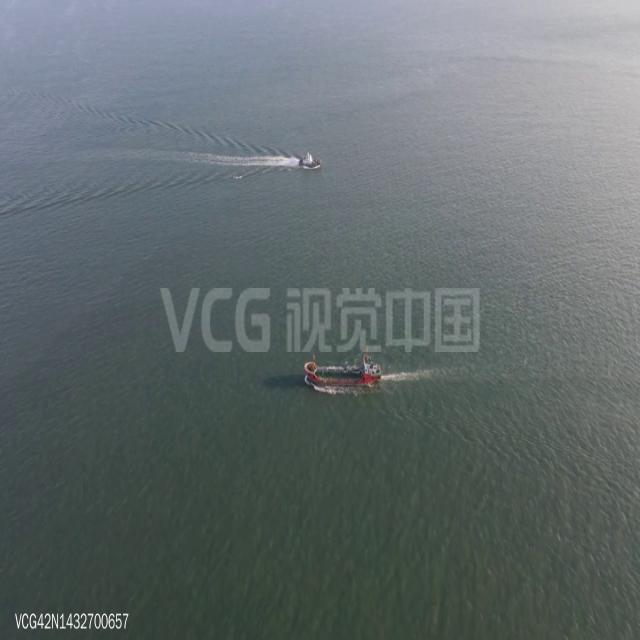cargoship: (306, 342, 382, 395), (297, 147, 323, 172)
